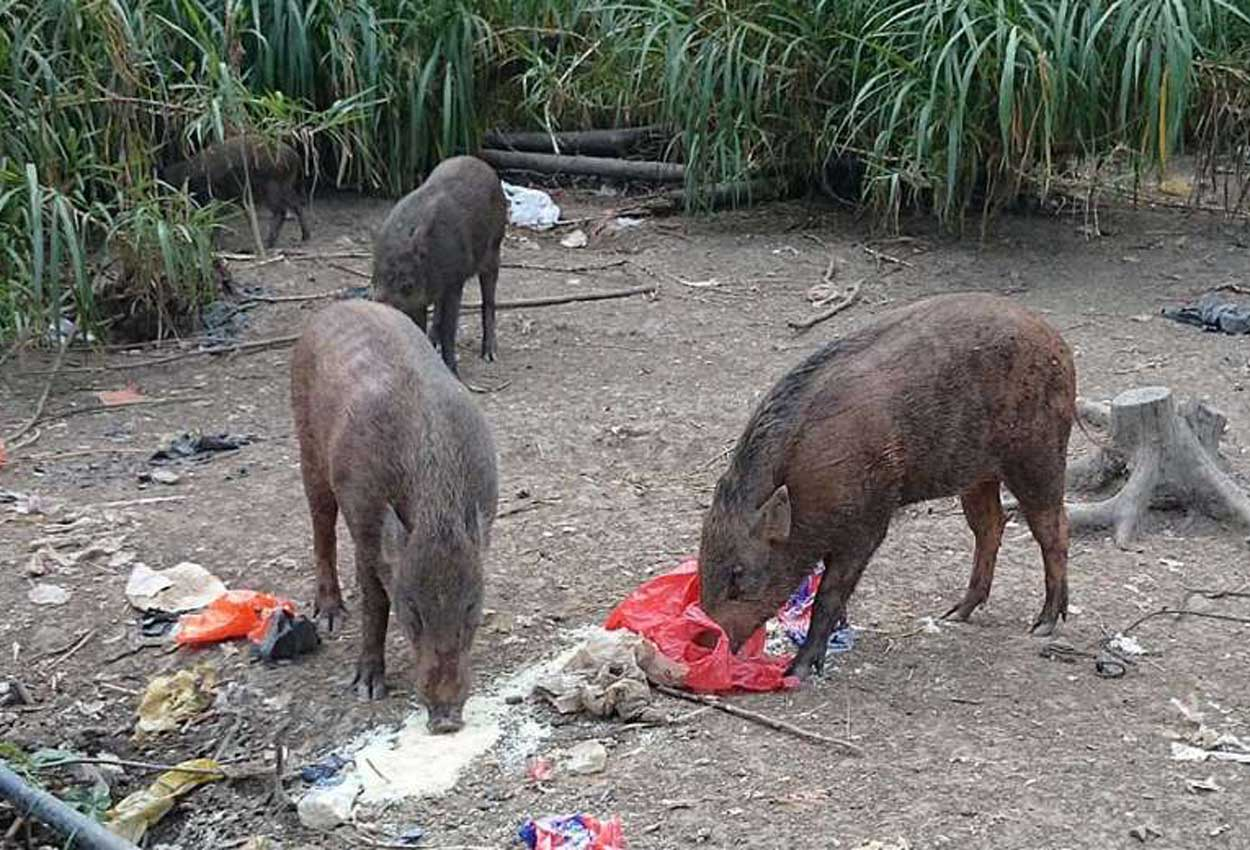boar: (697, 284, 1090, 695), (281, 289, 521, 744), (364, 140, 507, 381)
